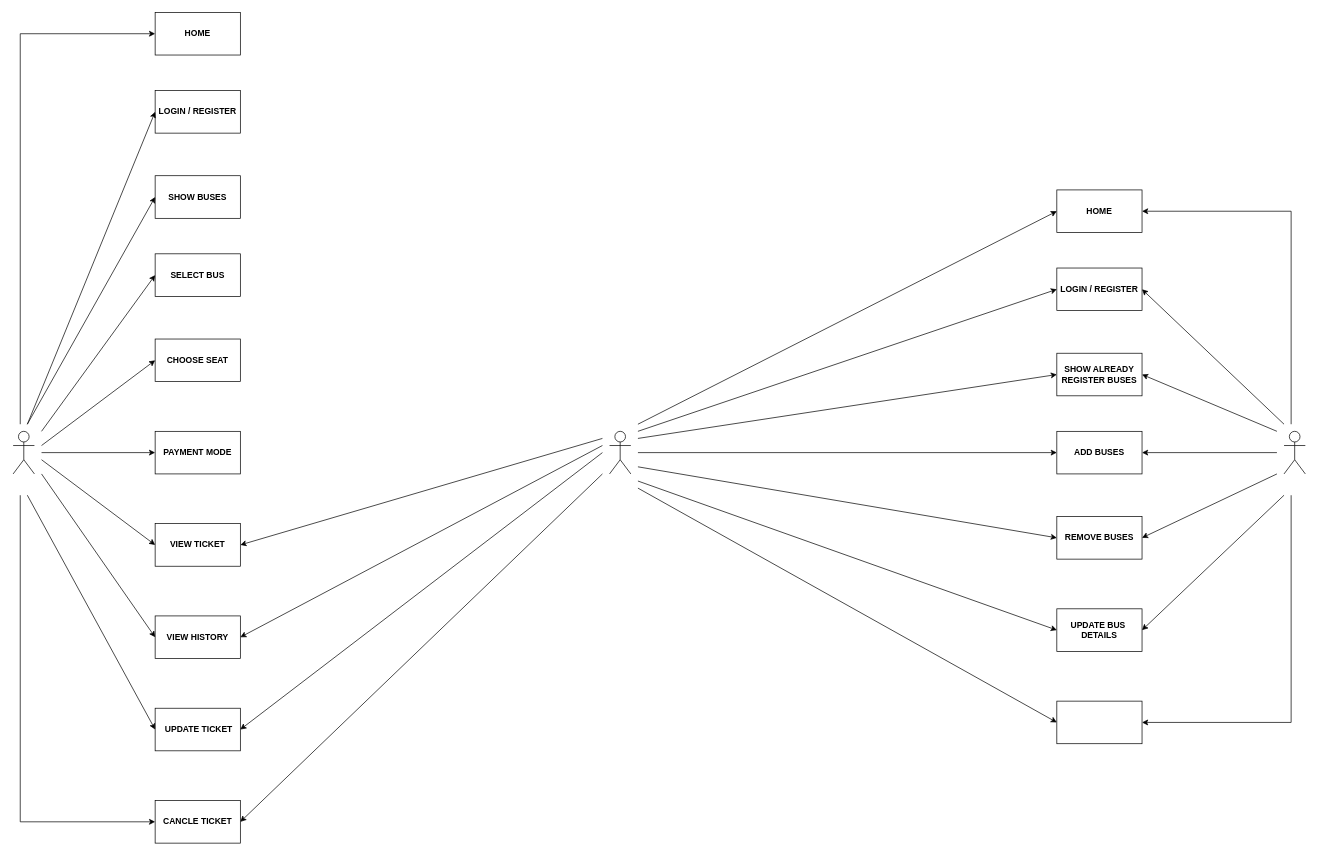
The diagram is 1331 pixels wide and 856 high, and some of its shapes have lost their labels. Each missing label, with the centre of its shape:
ADMIN: the point at 620,452
OPERATOR: the point at 1294,452
USER: the point at 23,452
VIEW CUSTOMERS TICKET DETAIL: the point at 1099,722
